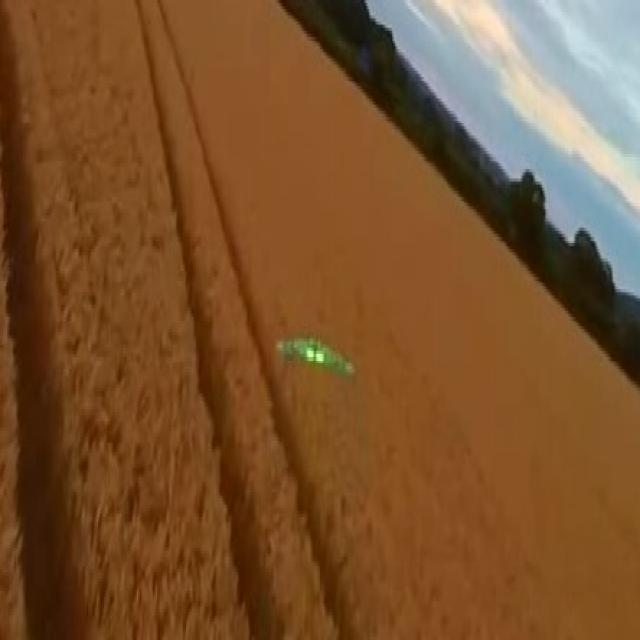UAV: (258, 302, 382, 422)
